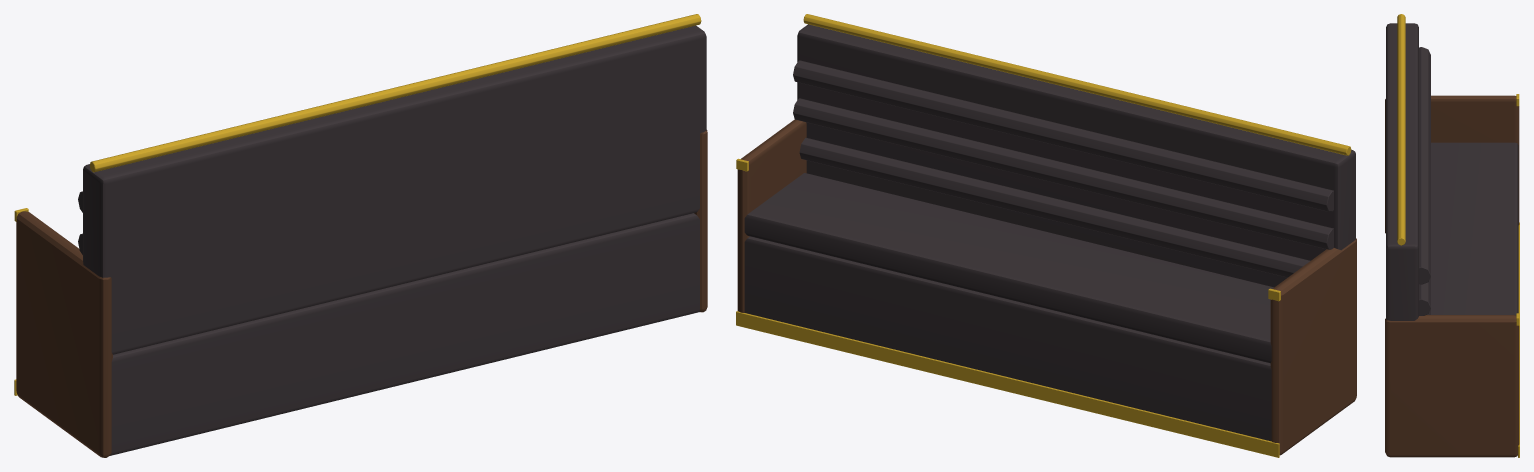
Rendered from prop_ah_booth.glb.
The picture shows the model from 3 angles, left to right: view 1: azimuth 30°, elevation 25°; view 2: azimuth 150°, elevation 25°; view 3: azimuth 270°, elevation 25°; orthographic projection. The views are drawn at different scales.
Parts seen in each view (by area): view 1: Body; view 2: Body; view 3: Body.
Boxes of the visible parts, left/top/right/bottom form: Body: left=14, top=14, right=707, bottom=457; Body: left=736, top=14, right=1356, bottom=457; Body: left=1385, top=14, right=1519, bottom=457.
Bounding box in the file's own units: 2.41 × 1.1 × 0.61.
